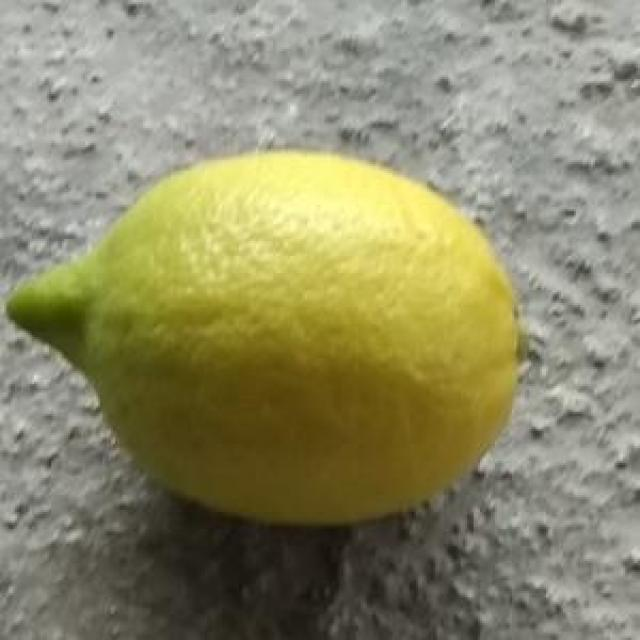lemon: (9, 143, 546, 522)
